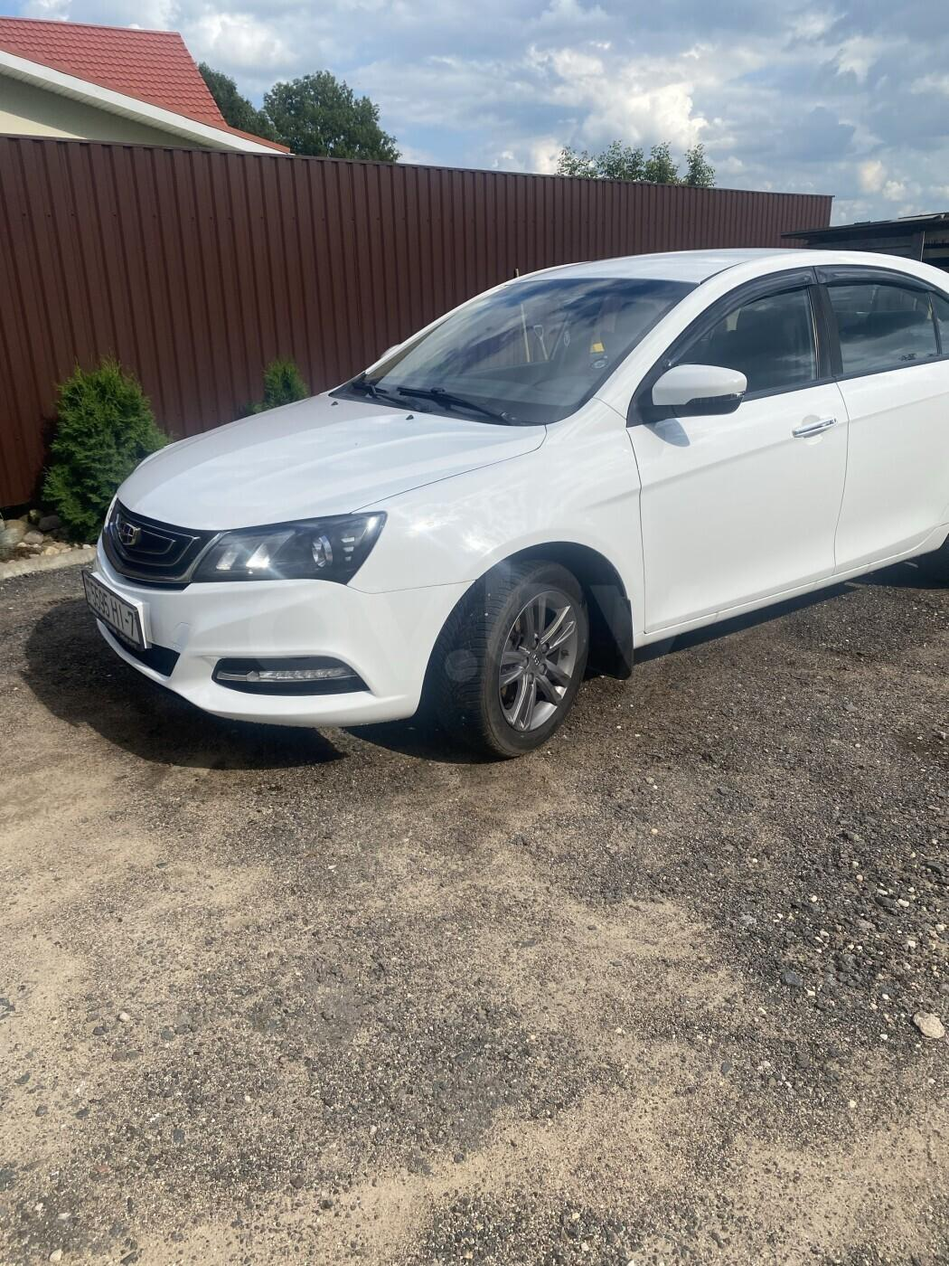Emgrand_2019-2021: (84, 250, 948, 757)
